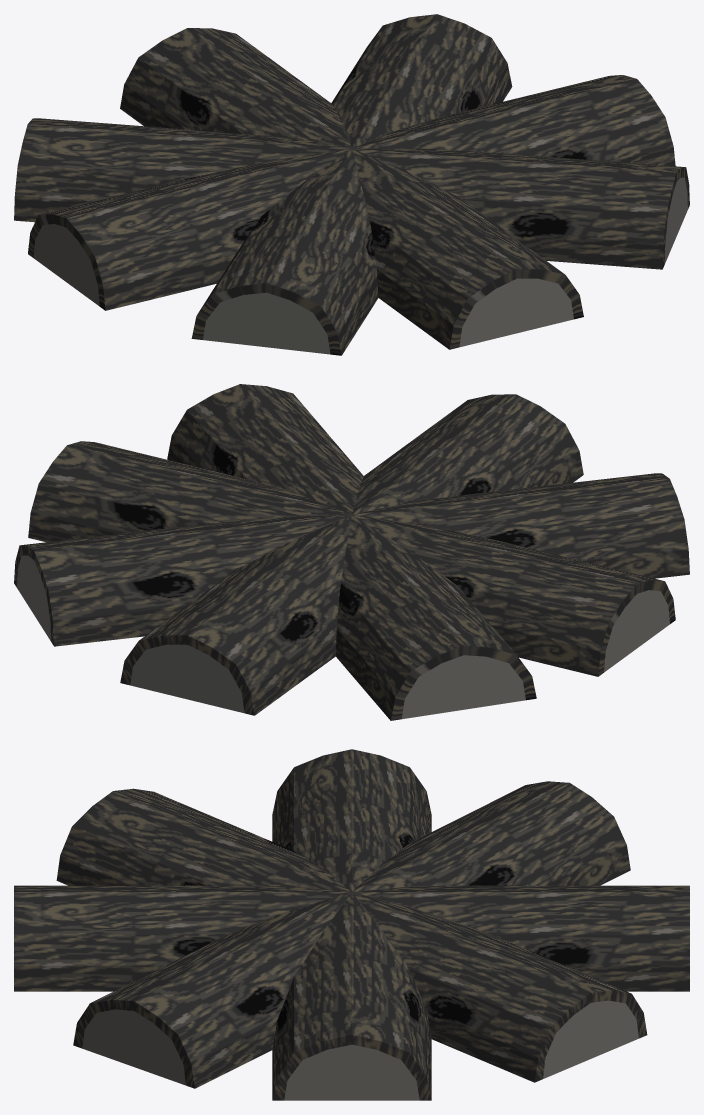
The model's file is Fogata.glb.
3 views of the same model, one above another, from view 1: azimuth 30°, elevation 25°; view 2: azimuth 150°, elevation 25°; view 3: azimuth 270°, elevation 25° (orthographic). The views are drawn at different scales.
Parts seen in each view (by area): view 1: Fogata; view 2: Fogata; view 3: Fogata.
Boxes of the visible parts, box(x1,y1,x2,y2) form: Fogata: box(14, 14, 689, 355); Fogata: box(14, 384, 689, 720); Fogata: box(14, 749, 689, 1100).
Bounding box in the file's own units: 2.53 × 0.2721 × 2.53.
Materials: 2 (1 with a texture image).
